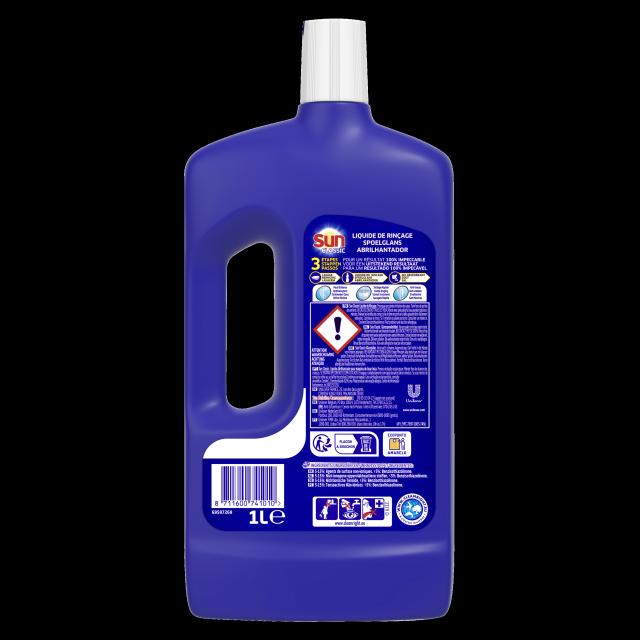GHS_Symbol_EXCLAMATION_MARK: (313, 304, 363, 354)
